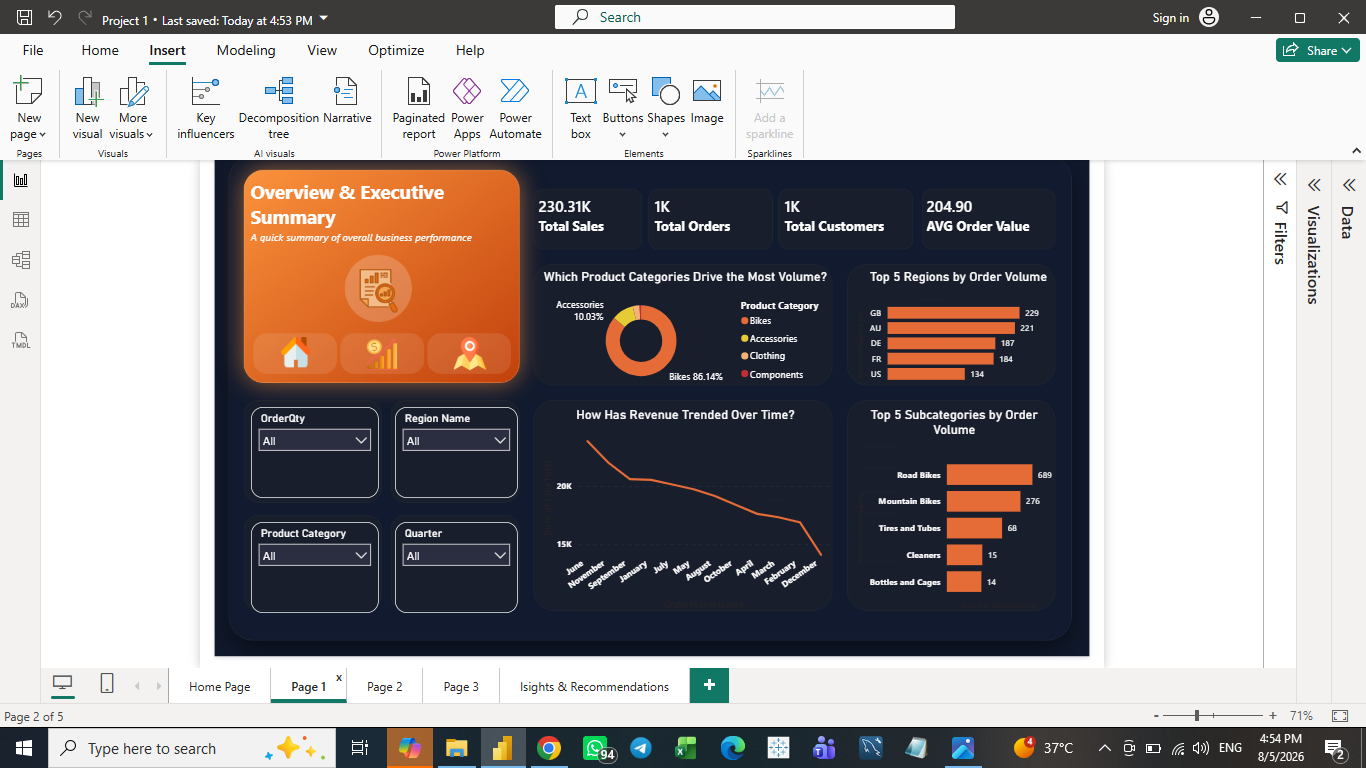

The page's visual inventory and layout, read from the dashboard file:
{"tool":"powerbi","page":{"name":"Page 1","canvas":[1280,720],"ordinal":1},"visuals":[{"type":"image","box":[0,216.9,270.7,109.1],"z":0},{"type":"image","box":[123.3,216.9,270.7,109.1],"z":1000},{"type":"image","box":[246.6,216.9,270.7,109.1],"z":2000},{"type":"textbox","box":[66.6,21.3,374.2,121.9],"z":3000},{"type":"image","box":[123.3,110.6,259.4,134.6],"z":4000},{"type":"image","box":[211.2,154.5,83.6,62.4],"z":5000},{"type":"image","box":[78,250.9,116.2,42.5],"z":6000},{"type":"image","box":[200,254.3,117.1,44.3],"z":7000},{"type":"cardVisual","fields":{"Data":["All Measures.Total Sales"]},"box":[450.7,24.1,223.9,107.7],"z":8000},{"type":"cardVisual","fields":{"Data":["All Measures.Total Orders"]},"box":[615.1,24.1,223.9,107.7],"z":9000},{"type":"cardVisual","fields":{"Data":["All Measures.Total Customers"]},"box":[799.4,24.1,223.9,107.7],"z":10000},{"type":"cardVisual","fields":{"Data":["All Measures.Average Order Value"]},"box":[1000.6,24.1,223.9,107.7],"z":11000},{"type":"slicer","fields":{"Values":["Fact_Sales (2011_2014).OrderQty"]},"box":[72.3,350.1,181.4,129],"z":12000},{"type":"slicer","fields":{"Values":["Dim_regions.Region Name"]},"box":[276.4,350.1,174.3,129],"z":13000},{"type":"slicer","fields":{"Values":["Dim_Products.Product Category"]},"box":[72.3,513.1,181.4,129],"z":14000},{"type":"slicer","fields":{"Values":["Fact_Sales (2011_2014).OrderDate.Variation.Date Hierarchy.Quarter"]},"box":[276.4,513.1,174.3,129],"z":15000},{"type":"lineChart","title":"How Has Revenue Trended Over Time?","fields":{"Y":["Sum(Fact_Sales (2011_2014).LineTotal)"],"Category":["Fact_Sales (2011_2014).OrderMonthName"]},"box":[478.7,349.4,418.3,292.3],"z":16000},{"type":"donutChart","title":"Which Product Categories Drive the Most Volume?","fields":{"Category":["Dim_Products.Product Category"],"Y":["Sum(Fact_Sales (2011_2014).OrderQty)"]},"box":[478.7,154.5,418.3,171.3],"z":17000},{"type":"barChart","title":"Top 5 Regions by Order Volume","fields":{"Category":["Dim_regions.CountryRegionCode"],"Y":["Count(Fact_Sales (2011_2014).SalesOrderID)"]},"box":[925.6,154.5,299,171.3],"z":18000},{"type":"clusteredBarChart","title":"Top 5 Subcategories by Order Volume","fields":{"Category":["Dim_Products.Product Subcategory","Dim_Products.Product Category"],"Y":["Count(Fact_Sales (2011_2014).SalesOrderID)"]},"box":[925.6,349.4,287.2,292.3],"z":19000},{"type":"image","box":[342.9,251.4,78.6,47.1],"z":20000}]}

Visuals, with their boxes on the page's 1280x720 design canvas (x1, y1, x2, y2). These are canvas units, not pixel positions in the 1366x768 screenshot, which may show the page scaled, cropped or inside an application window:
image: box(0, 217, 271, 326)
image: box(123, 217, 394, 326)
image: box(247, 217, 517, 326)
textbox: box(67, 21, 441, 143)
image: box(123, 111, 383, 245)
image: box(211, 154, 295, 217)
image: box(78, 251, 194, 293)
image: box(200, 254, 317, 299)
cardVisual - All Measures.Total Sales: box(451, 24, 675, 132)
cardVisual - All Measures.Total Orders: box(615, 24, 839, 132)
cardVisual - All Measures.Total Customers: box(799, 24, 1023, 132)
cardVisual - All Measures.Average Order Value: box(1001, 24, 1224, 132)
slicer - Fact_Sales (2011_2014).OrderQty: box(72, 350, 254, 479)
slicer - Dim_regions.Region Name: box(276, 350, 451, 479)
slicer - Dim_Products.Product Category: box(72, 513, 254, 642)
slicer - Fact_Sales (2011_2014).OrderDate.Variation.Date Hierarchy.Quarter: box(276, 513, 451, 642)
"How Has Revenue Trended Over Time?" lineChart: box(479, 349, 897, 642)
"Which Product Categories Drive the Most Volume?" donutChart: box(479, 154, 897, 326)
"Top 5 Regions by Order Volume" barChart: box(926, 154, 1225, 326)
"Top 5 Subcategories by Order Volume" clusteredBarChart: box(926, 349, 1213, 642)
image: box(343, 251, 422, 298)
